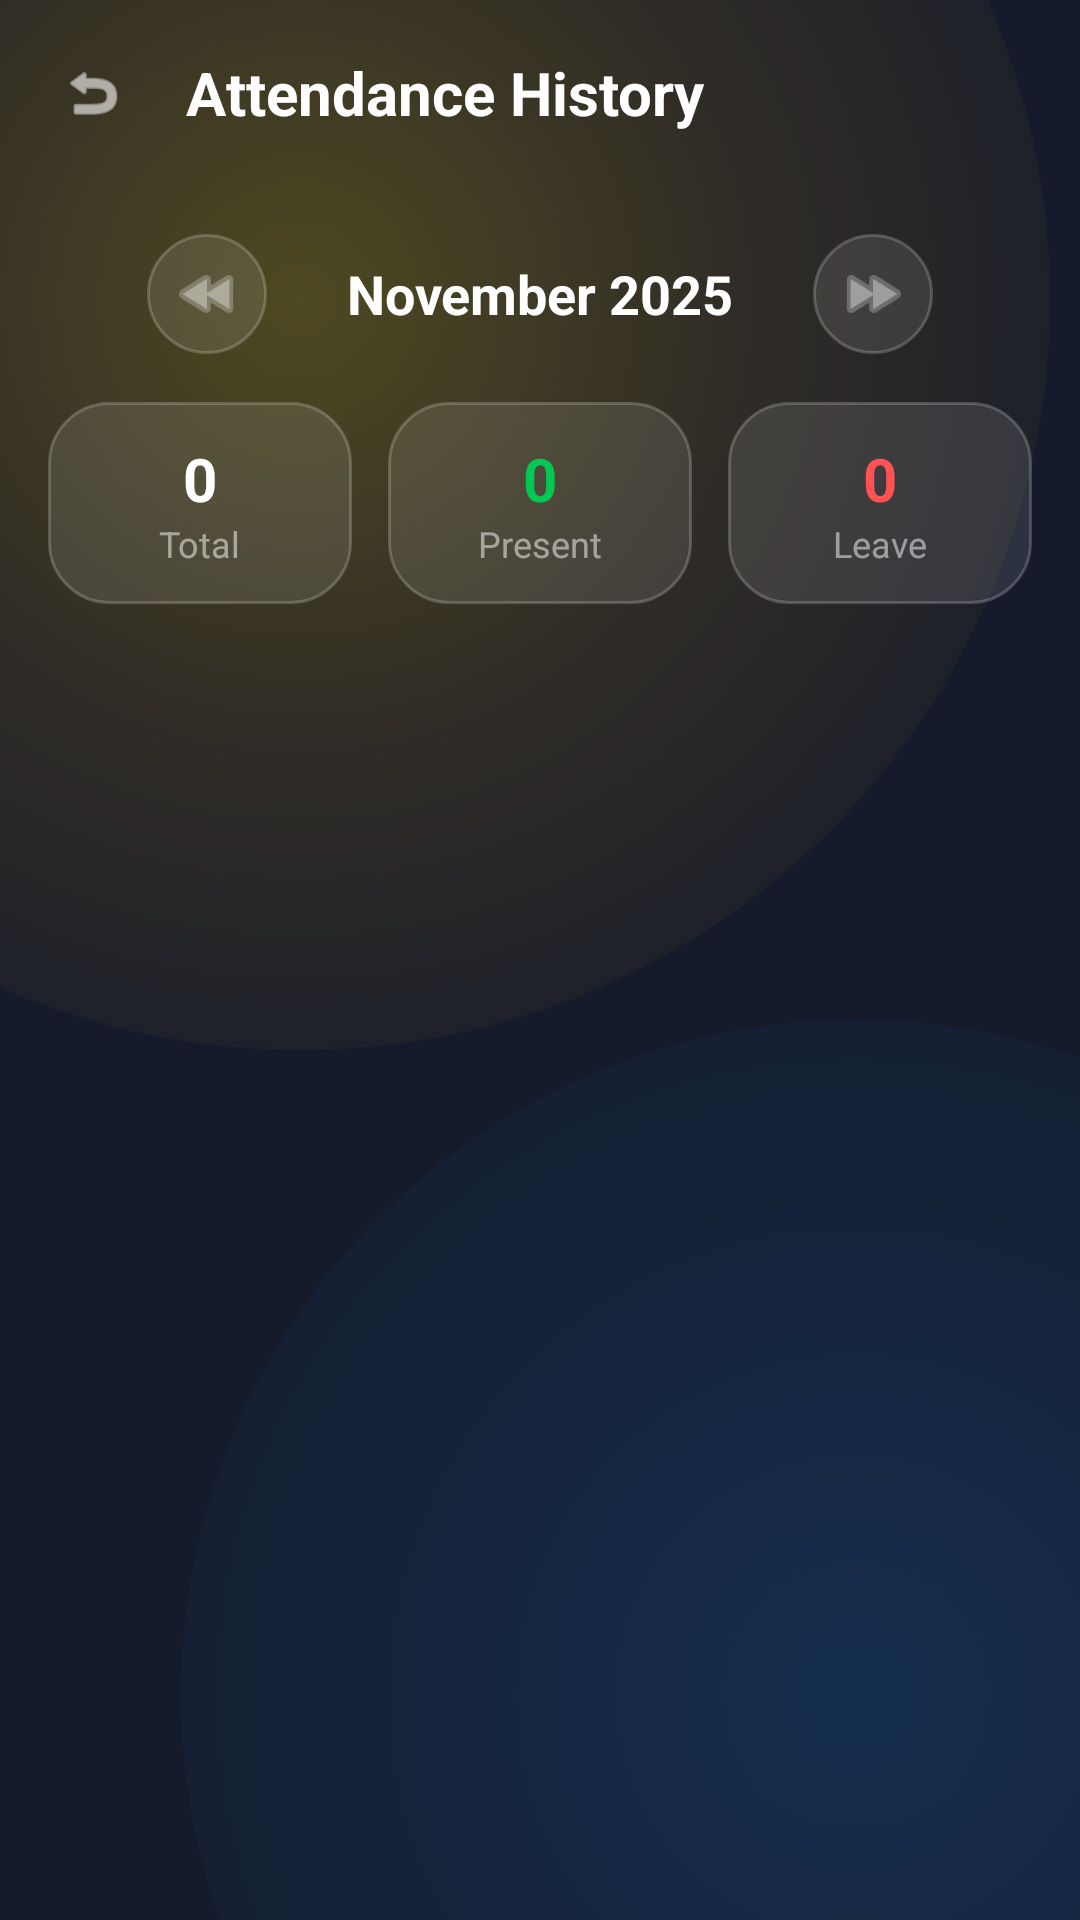

Icons on this 1080*1920 Android screen, each with the point to tap as point (x, y):
revert: point (94, 93)
rew: point (207, 294)
